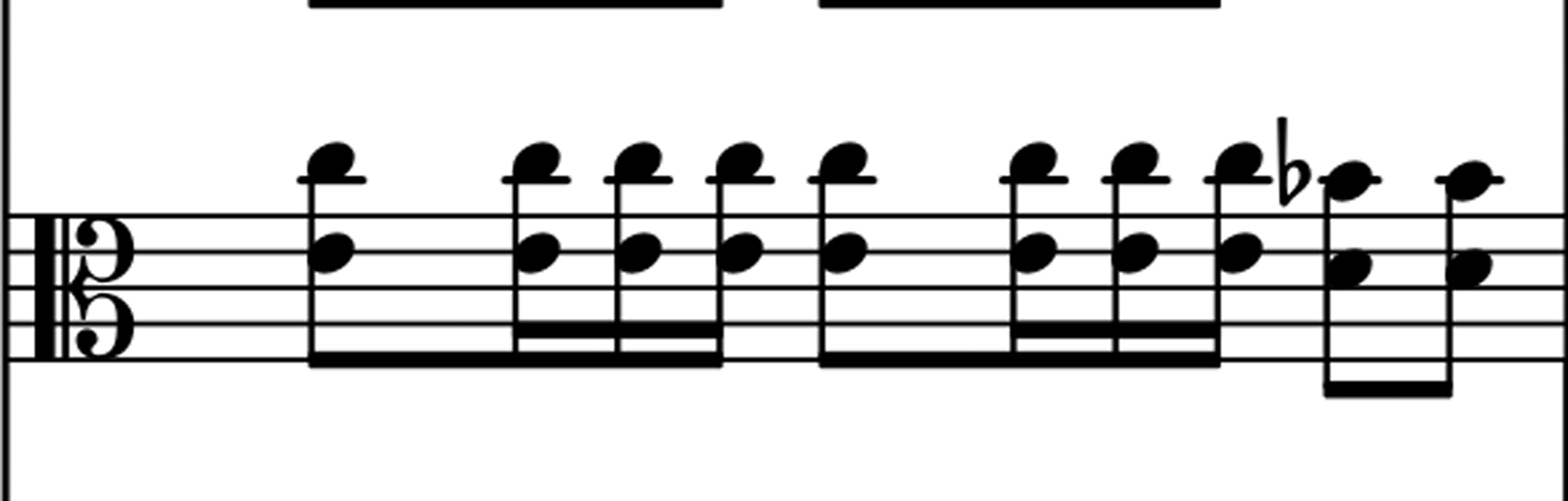accidentalFlat: (1278, 117, 1309, 205)
beam: (308, 0, 722, 7), (820, 0, 1219, 7)
clefCAlto: (21, 189, 168, 396)
ledgerLine: (1203, 176, 1270, 183), (705, 176, 773, 182), (998, 177, 1068, 182), (603, 177, 671, 182), (1103, 177, 1170, 182), (502, 177, 569, 182), (299, 177, 365, 182), (707, 178, 774, 182), (809, 178, 875, 182), (606, 178, 672, 182), (1316, 178, 1371, 182)
noteheadBlackInSpace: (1446, 249, 1491, 288), (513, 142, 559, 180), (1216, 142, 1261, 180), (716, 142, 762, 179), (820, 142, 865, 179), (615, 142, 660, 179), (308, 142, 353, 179), (1112, 142, 1157, 179), (1010, 142, 1055, 179), (1327, 249, 1370, 287)
noteheadBlackOnLine: (1324, 161, 1371, 199), (821, 233, 866, 271), (1446, 161, 1491, 199), (309, 233, 353, 271), (1113, 233, 1157, 271), (617, 233, 660, 271), (516, 233, 559, 271), (1218, 233, 1261, 271), (1012, 233, 1055, 271), (718, 233, 761, 271)
staff: (294, 206, 1470, 375)
